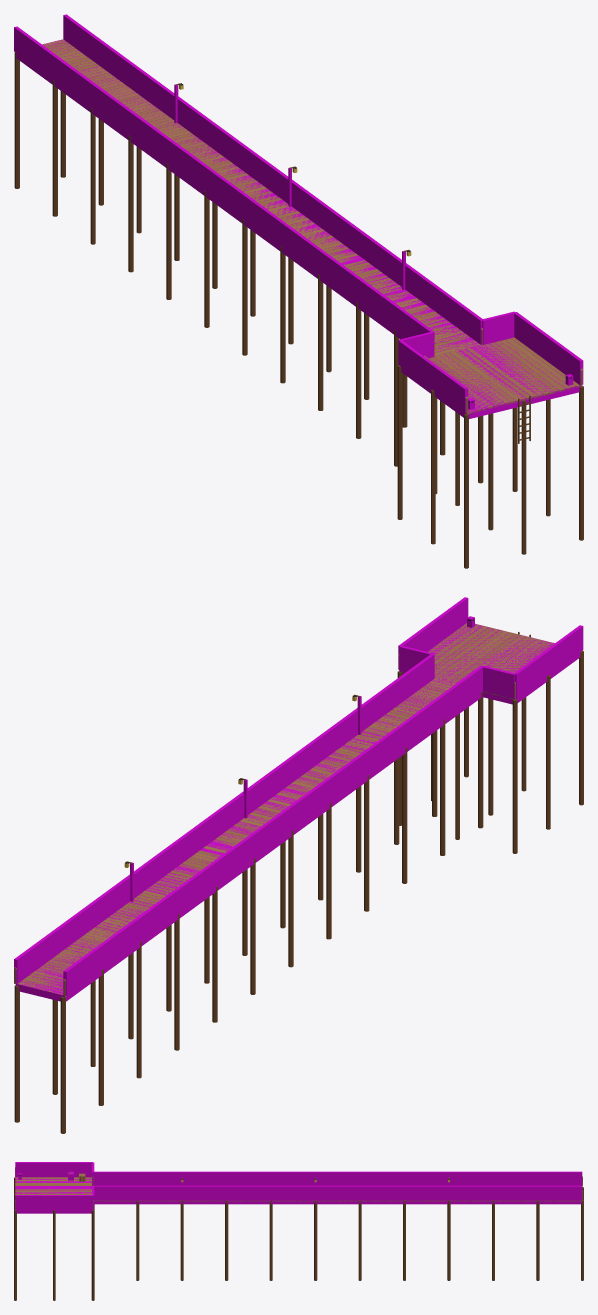
The model's file is pier-MR6XaBk3.glb.
3 renders of one model, top to bottom at view 1: azimuth 30°, elevation 25°; view 2: azimuth 150°, elevation 25°; view 3: azimuth 270°, elevation 25°, orthographic. The views are drawn at different scales.
Visible parts, largest first — view 1: pier, COLP_pier, COL_pier; view 2: pier, COLP_pier, COL_pier; view 3: COLP_pier, pier, COL_pier.
Boxes of the visible parts, x1,y1,x2,y2 form: pier: [14, 39, 583, 568]; COLP_pier: [14, 14, 583, 413]; COL_pier: [16, 40, 581, 418]; pier: [14, 619, 583, 1133]; COLP_pier: [14, 597, 583, 995]; COL_pier: [15, 623, 580, 1001]; COLP_pier: [15, 1162, 582, 1209]; pier: [14, 1167, 583, 1300]; COL_pier: [15, 1171, 581, 1213].
Size of the model in its own units: 7.23 by 11.23 by 51.27.
